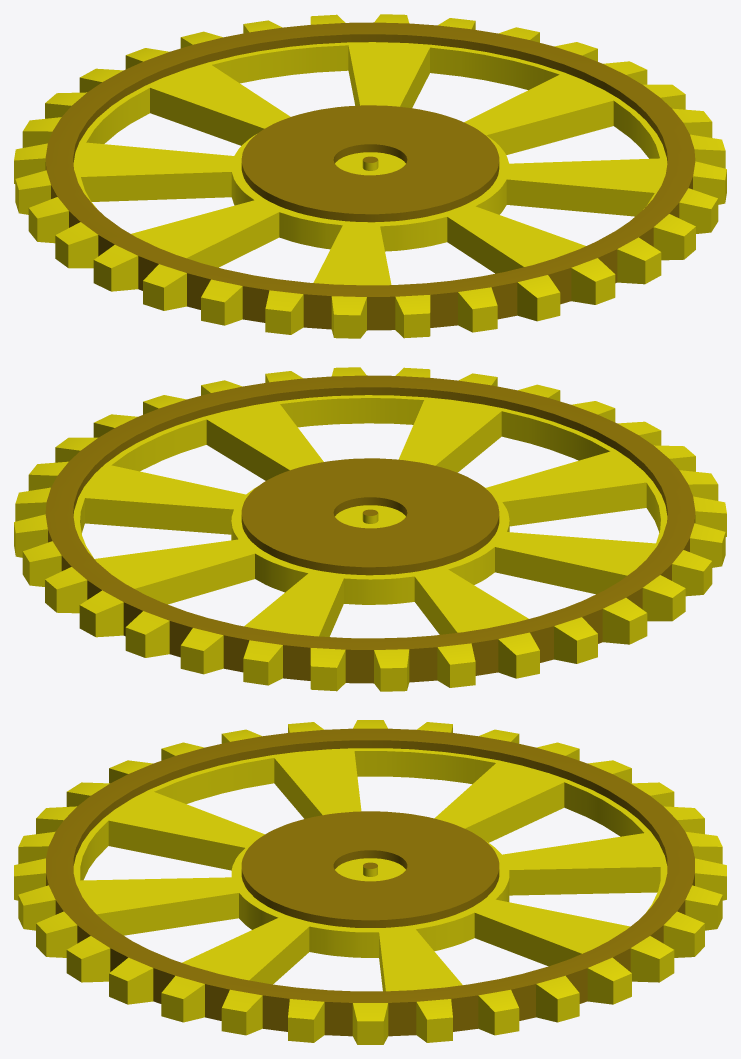
Rendered from mdl_zesty_gear_planet.gltf.
3 views of the same model, one above another, from view 1: azimuth 30°, elevation 25°; view 2: azimuth 150°, elevation 25°; view 3: azimuth 270°, elevation 25° (orthographic).
Visible parts, largest first — view 1: mdl_zesty_gear_planet; view 2: mdl_zesty_gear_planet; view 3: mdl_zesty_gear_planet.
Part boxes in pixels (x1,y1,x2,y2): mdl_zesty_gear_planet: (14, 14, 726, 338); mdl_zesty_gear_planet: (14, 367, 726, 691); mdl_zesty_gear_planet: (14, 720, 726, 1044).
Bounding box in the file's own units: 2.91 × 0.1503 × 2.91.
